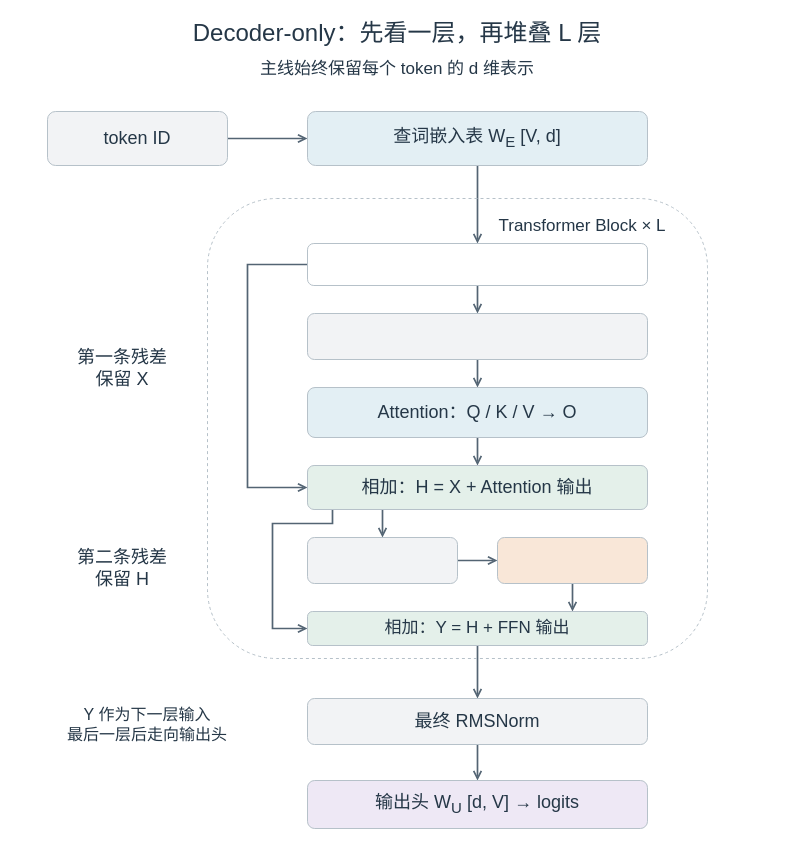
Some shapes in this 794 by 846 pixel diagram are drawn without their labels. The shapes that lost their labels are listed below. From the top down, each one's centre as x and y in pixels, then its label:
At [477,264]: "X：本层输入".
At [477,336]: "RMSNorm 1".
At [382,560]: "RMSNorm 2".
At [572,560]: "FFN / MoE".
